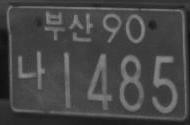0: (124, 13, 146, 43)
1: (54, 51, 81, 108)
4: (86, 52, 113, 111)
5: (150, 54, 178, 115)
8: (118, 53, 145, 112)
9: (101, 12, 123, 43)
나: (16, 49, 46, 90)
부산_O: (44, 10, 93, 42)
